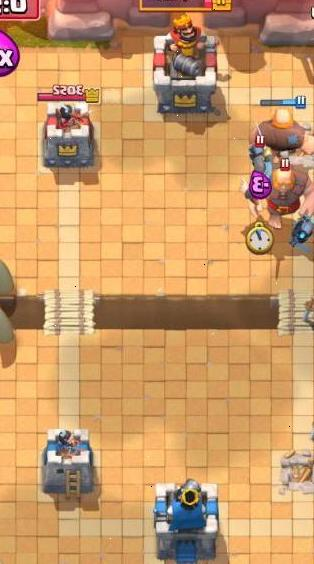enemy_giant: (262, 162, 314, 224)
enemy_mini_pekka: (245, 135, 276, 168)
player_giant: (253, 100, 314, 158)
player_mini_pekka: (282, 209, 314, 250)
